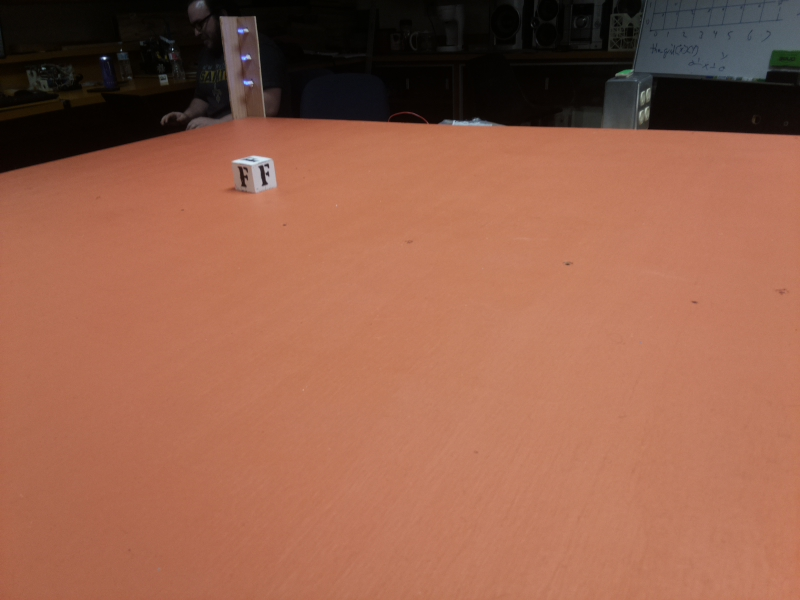blockF: (231, 151, 276, 197)
corner: (216, 15, 265, 128)
